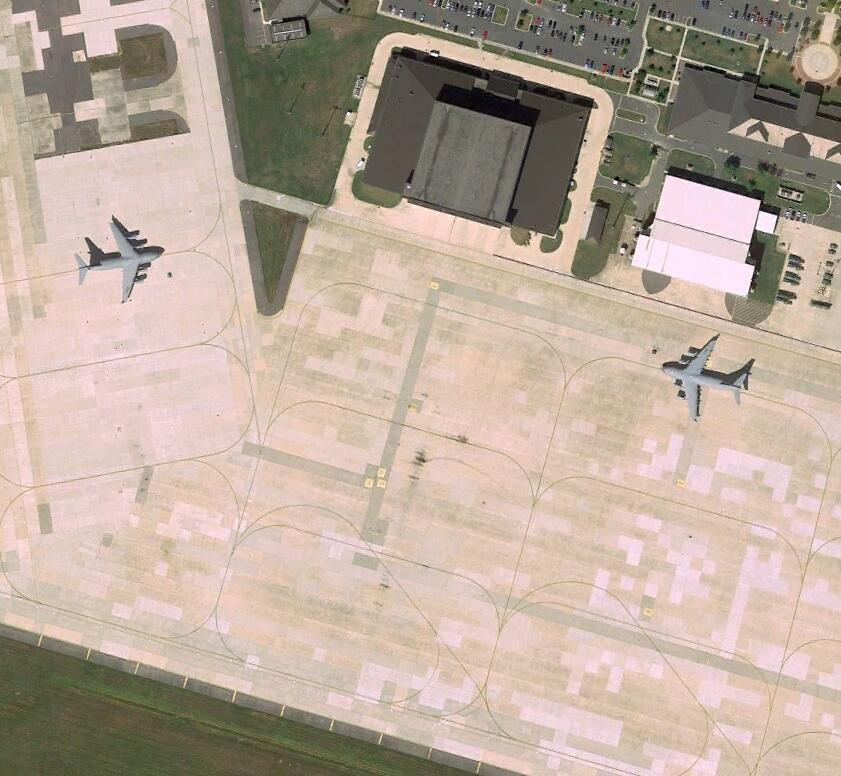A3: (73, 217, 166, 307), (662, 335, 754, 422)
